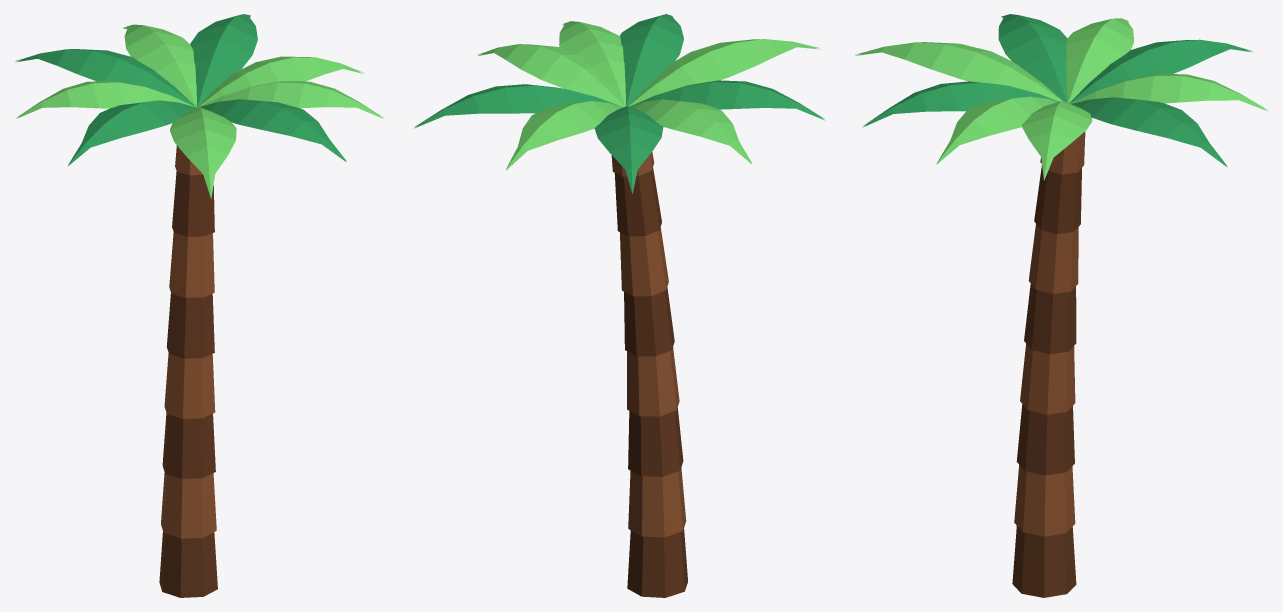
File: Cycad2.fbx
The picture shows the model from 3 angles, left to right: view 1: azimuth 30°, elevation 25°; view 2: azimuth 150°, elevation 25°; view 3: azimuth 270°, elevation 25°; orthographic projection. The views are drawn at different scales.
Parts seen in each view (by area): view 1: Cycad2; view 2: Cycad2; view 3: Cycad2.
Boxes of the visible parts, x1,y1,x2,y2 form: Cycad2: [15, 14, 383, 597]; Cycad2: [414, 14, 824, 597]; Cycad2: [855, 14, 1267, 597].
Bounding box in the file's own units: 3.72 × 5.57 × 4.
Materials: 1 (1 with a texture image).
